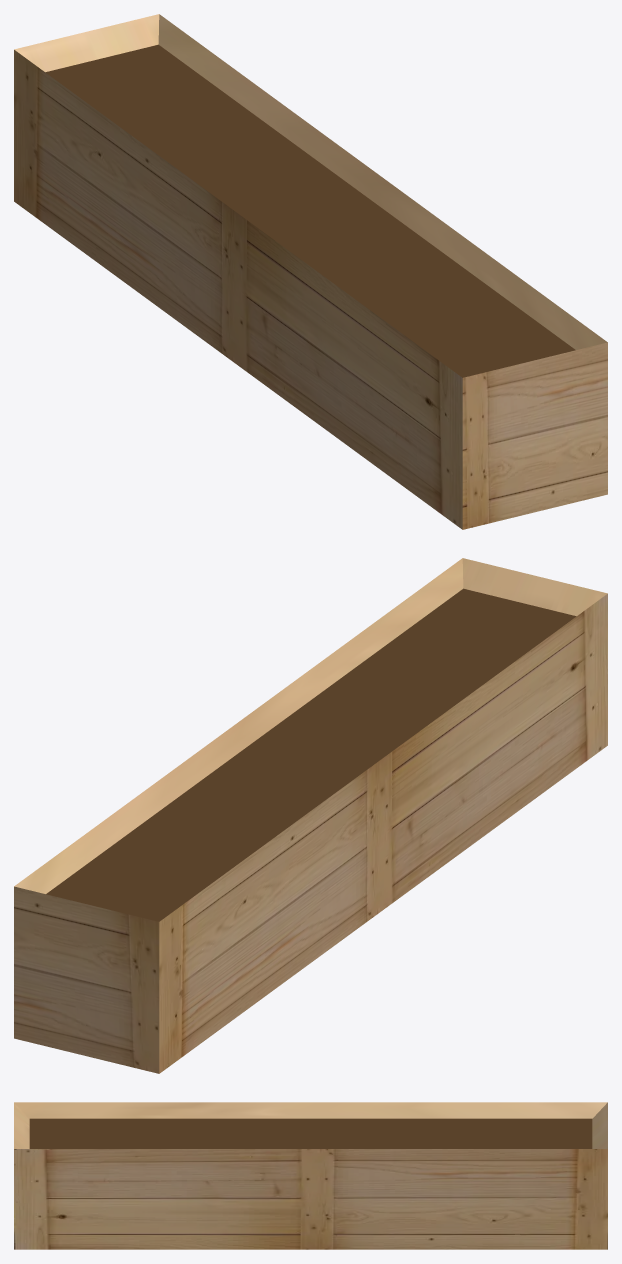
The model's file is planter_box.glb.
3 renders of one model, top to bottom at view 1: azimuth 30°, elevation 25°; view 2: azimuth 150°, elevation 25°; view 3: azimuth 270°, elevation 25°, orthographic. The views are drawn at different scales.
Parts seen in each view (by area): view 1: Cube; view 2: Cube; view 3: Cube.
Part boxes in pixels (x1=…): Cube: x1=14, y1=14, x2=607, y2=529; Cube: x1=14, y1=558, x2=607, y2=1073; Cube: x1=14, y1=1102, x2=607, y2=1249.
Bounding box in the file's own units: 2 × 2 × 10.7.
3 materials, 1 textured.
